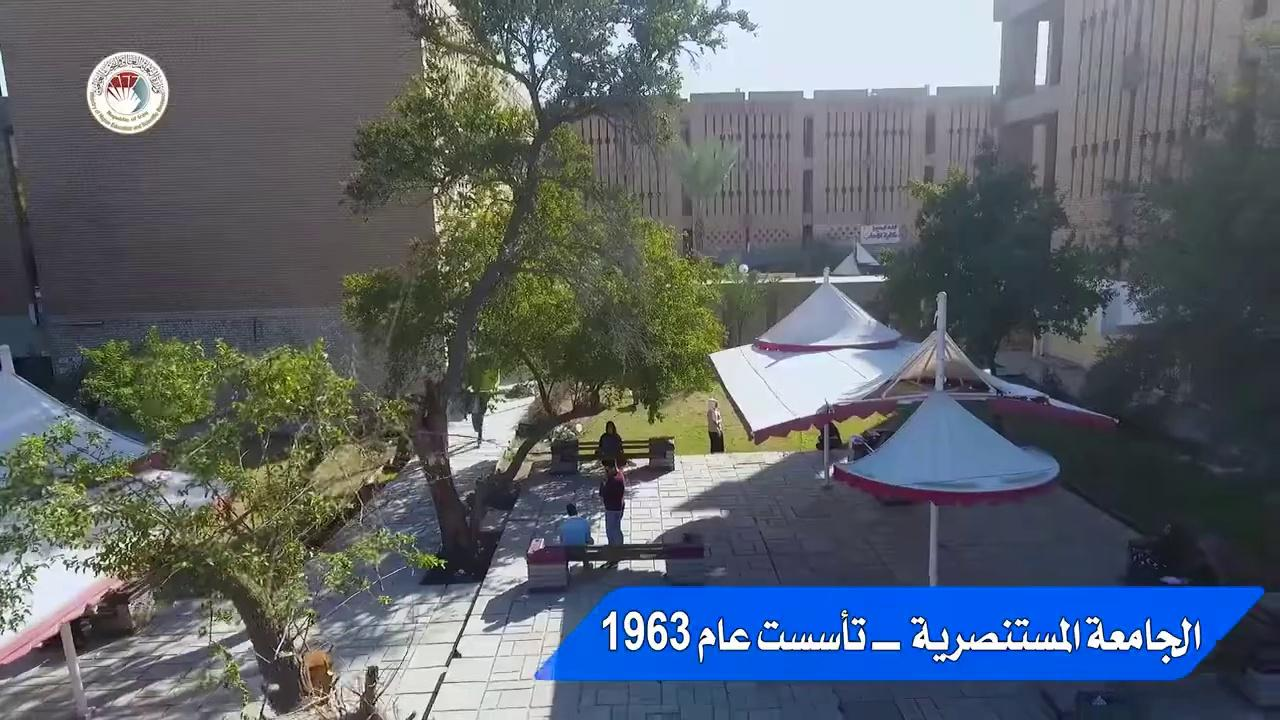fountain: (707, 266, 1120, 508)
person: (598, 456, 626, 569), (555, 502, 594, 572), (594, 420, 625, 474)
tree: (335, 0, 759, 572), (1, 324, 448, 717), (1114, 53, 1278, 448), (872, 130, 1117, 378)
